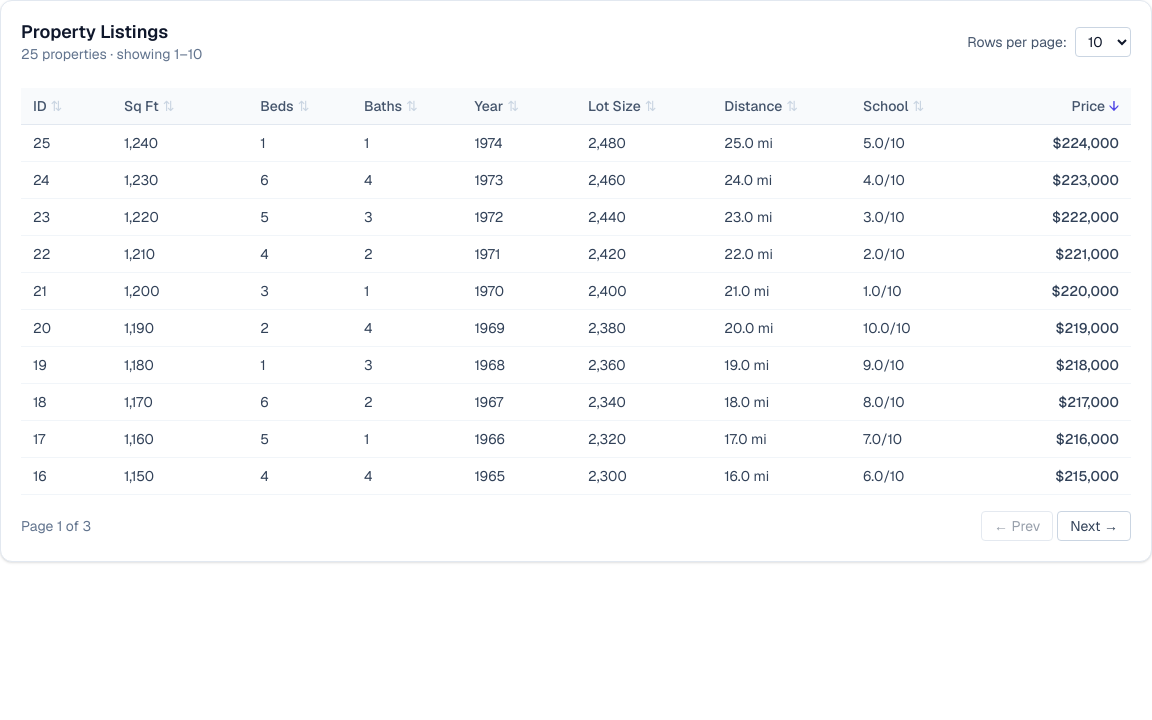
Scenario: DataTable › sorting › resets to page 1 when sorting changes
Go to page 2
Click the button with aria-label "next page": point(1094, 526) [1057, 510, 1131, 540]
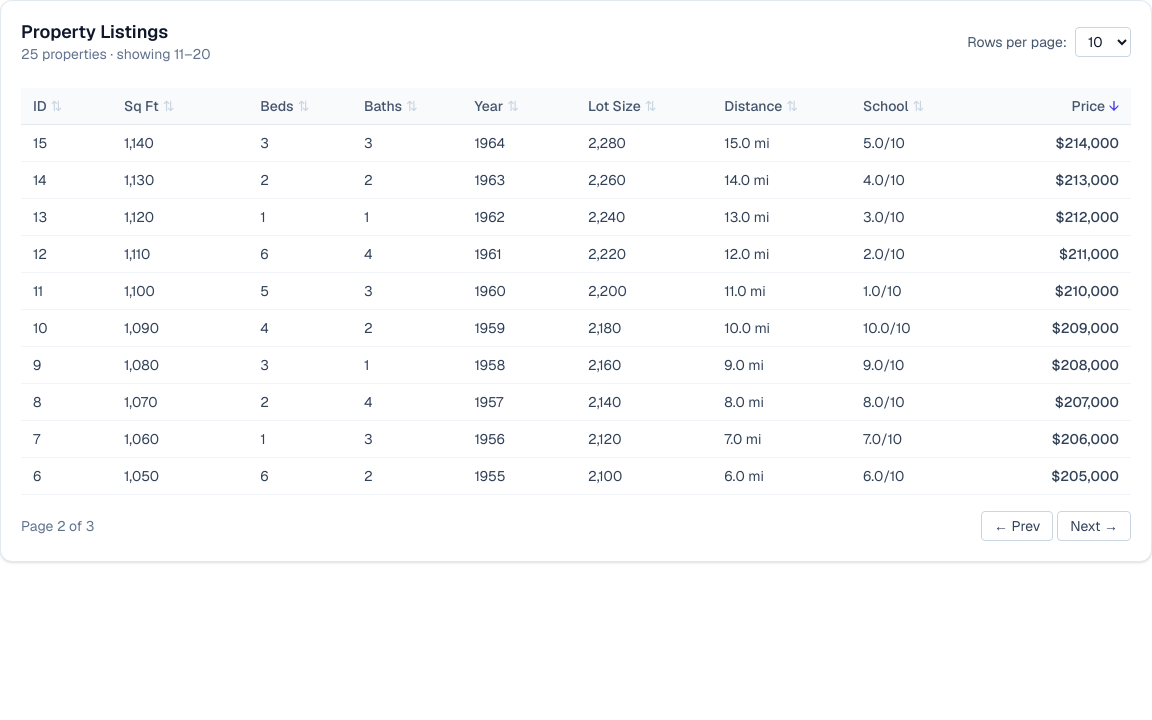
Result: the text "Page 2 of 3" is shown at [21, 516, 94, 536]
Sort by bedrooms
Click the button with aria-label "sort by beds": point(285, 106) [260, 96, 309, 116]
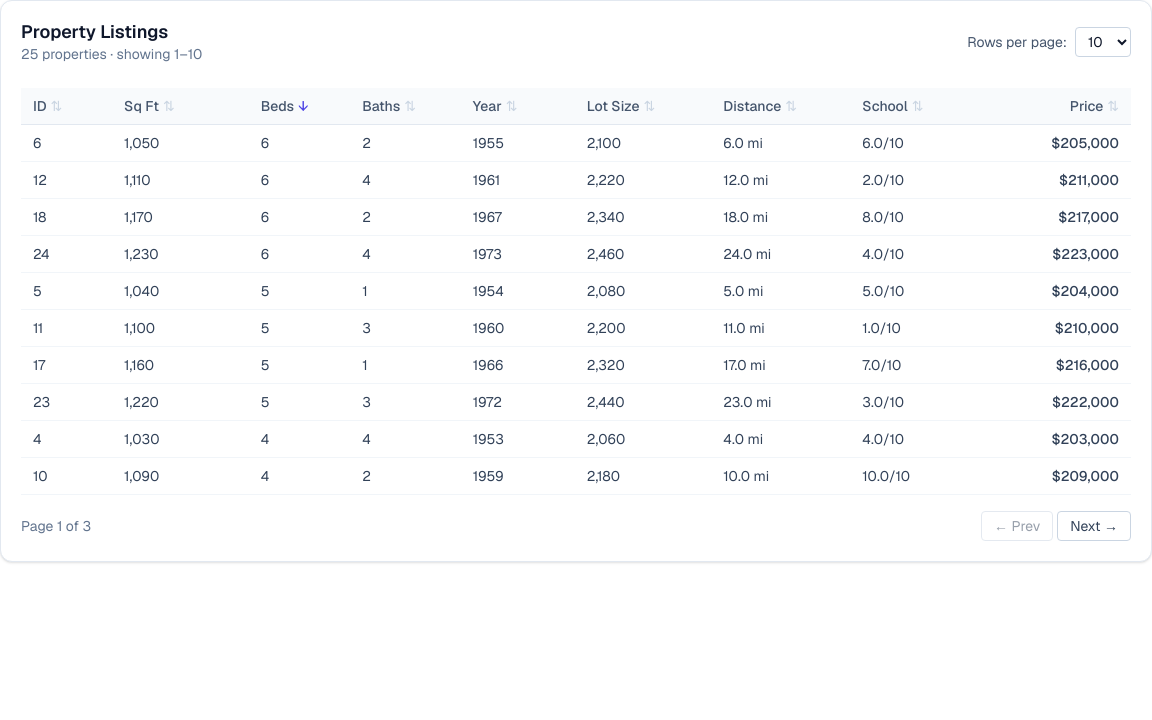
Result: the text "Page 1 of 3" is shown at [21, 516, 91, 536]
